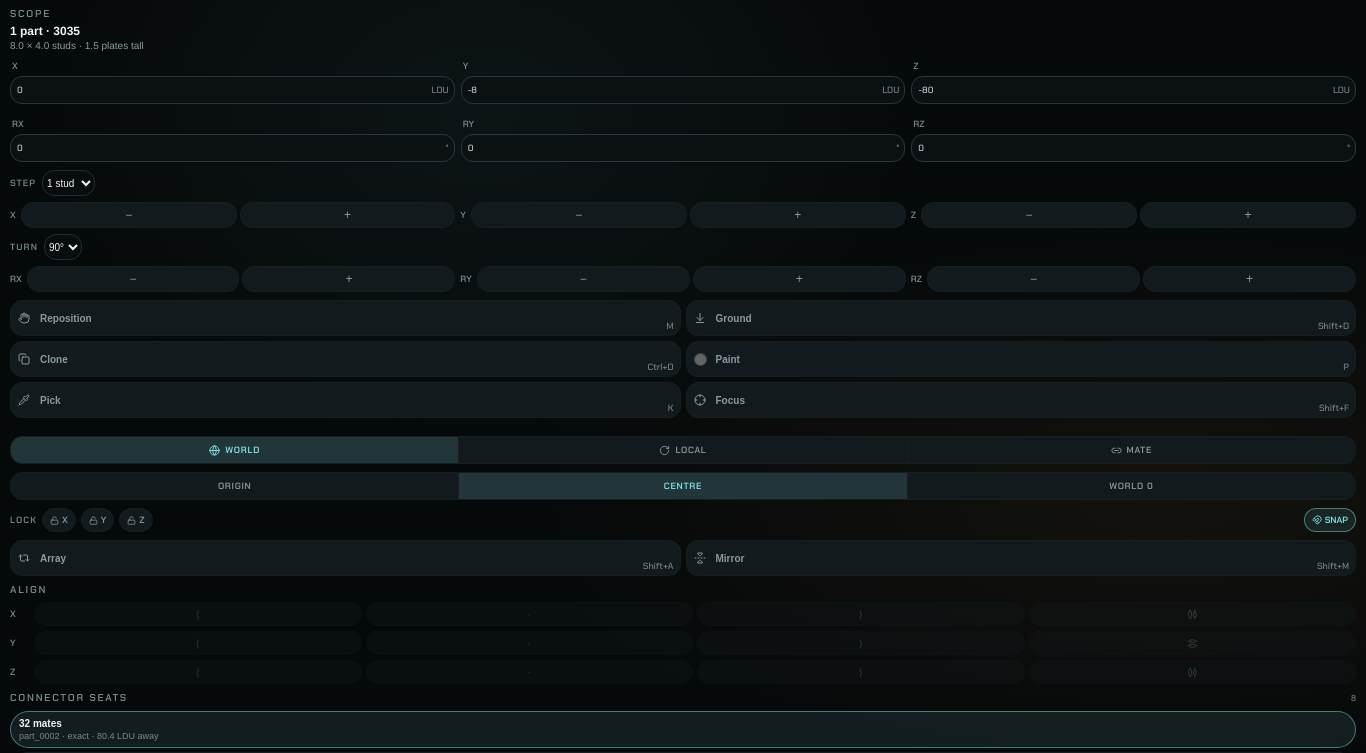
transform controls › locks an axis out of the numeric field
The image size is (1366, 753).
Expected: the number field named "Y in LDraw units" is enabled, [462, 84, 882, 96]
What coordinates should you click on to do the following:
click the button titled "Lock Y translation and rotation"
I would click on:
 (98, 520)
Its box is [81, 508, 114, 532].
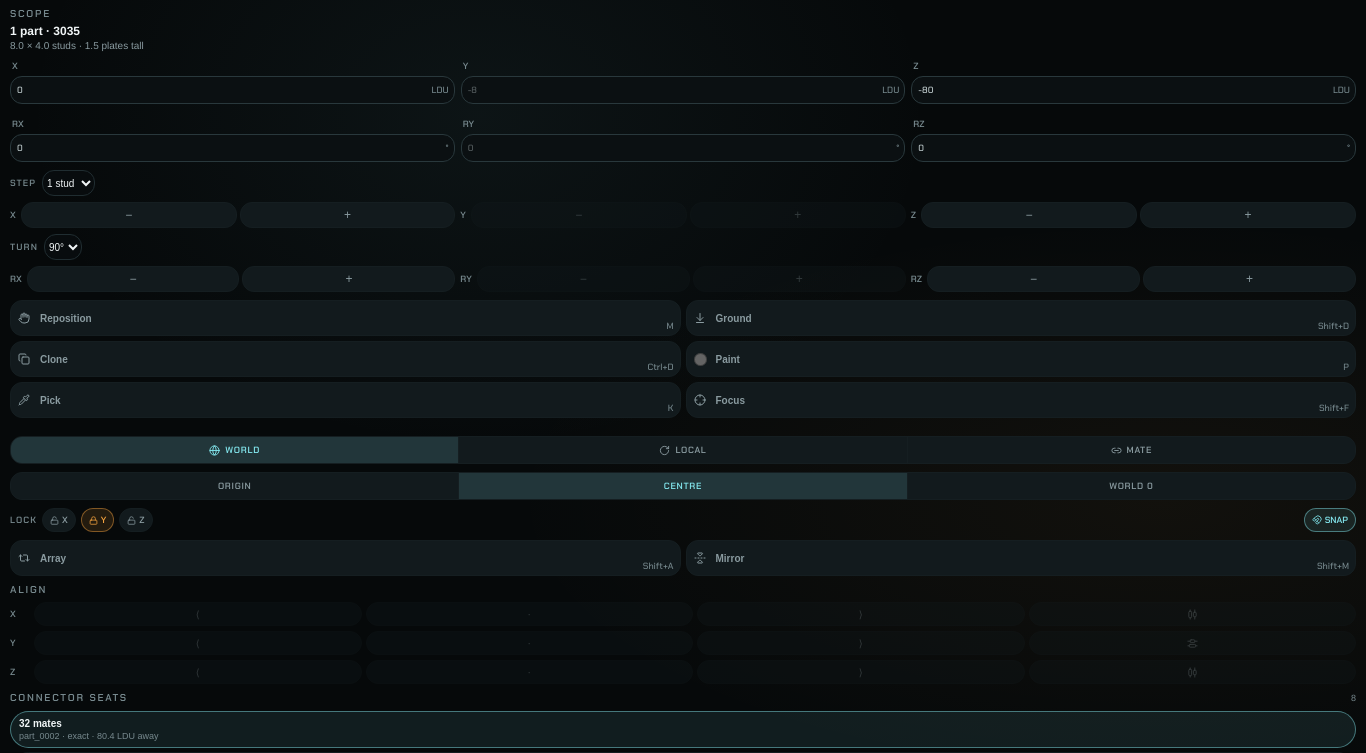
Expected: the number field named "Y in LDraw units" is disabled, [462, 84, 882, 96]
